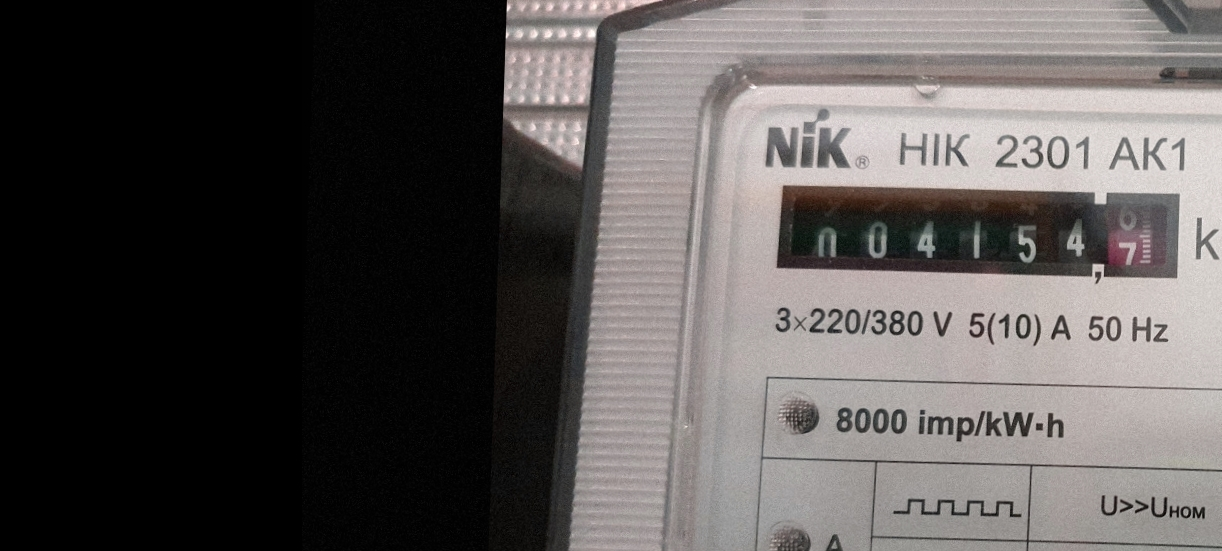0: (865, 217, 889, 259), (815, 222, 839, 257)
1: (970, 217, 984, 259)
4: (914, 217, 939, 259), (1065, 213, 1086, 258)
5: (1015, 218, 1040, 263)
6: (1117, 201, 1140, 231)
7: (1116, 237, 1138, 266)
screen: (761, 165, 1198, 295)
